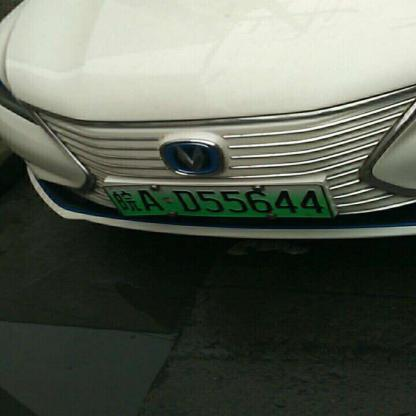lp: (104, 184, 330, 216)
